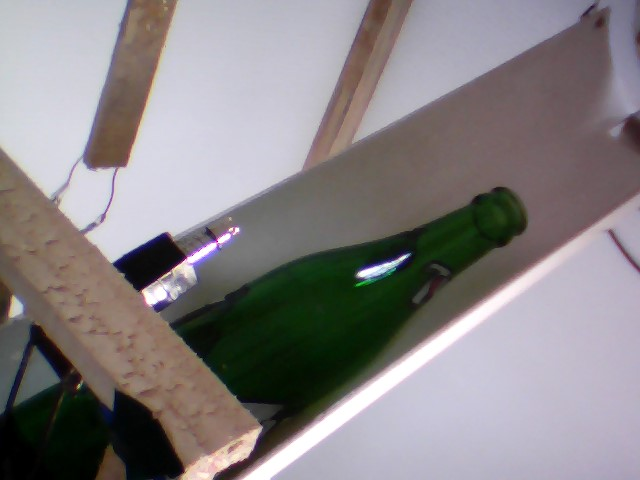vidrio: (190, 171, 548, 440)
